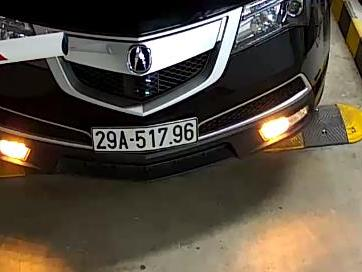number: (93, 120, 200, 152)
